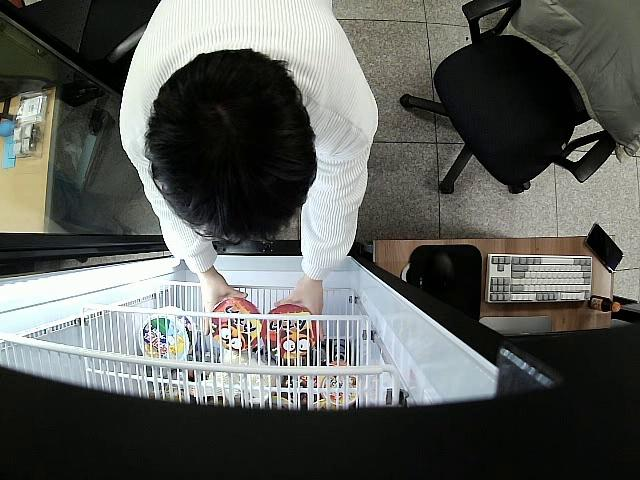00_hand: (273, 275, 327, 345), (201, 274, 248, 336)
05_nuguri_L: (260, 307, 319, 363), (208, 297, 261, 355)
